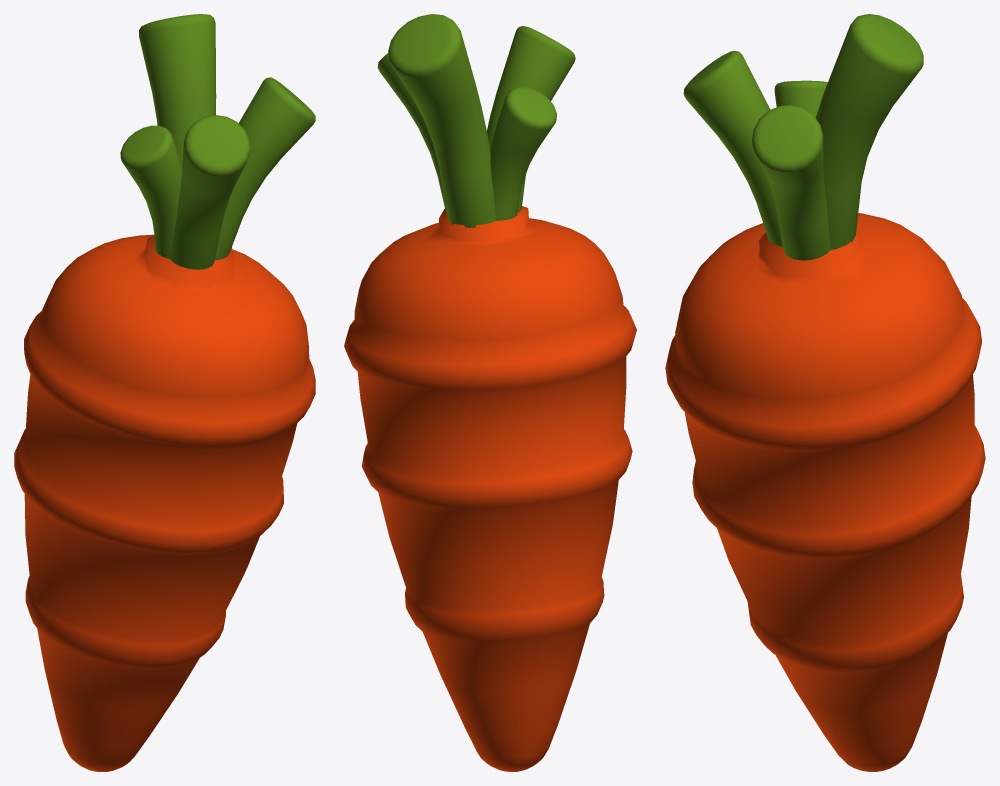
Rendered from Carrot.glb.
3 views of the same model, side by side, from view 1: azimuth 30°, elevation 25°; view 2: azimuth 150°, elevation 25°; view 3: azimuth 270°, elevation 25° (orthographic). The views are drawn at different scales.
Visible parts, largest first — view 1: Carrot.001; view 2: Carrot.001; view 3: Carrot.001.
Boxes of the visible parts, left/top/right/bottom form: Carrot.001: left=14, top=14, right=315, bottom=771; Carrot.001: left=344, top=14, right=636, bottom=771; Carrot.001: left=665, top=14, right=985, bottom=771.
Size of the model in its own units: 3.87 by 10.49 by 3.86.
